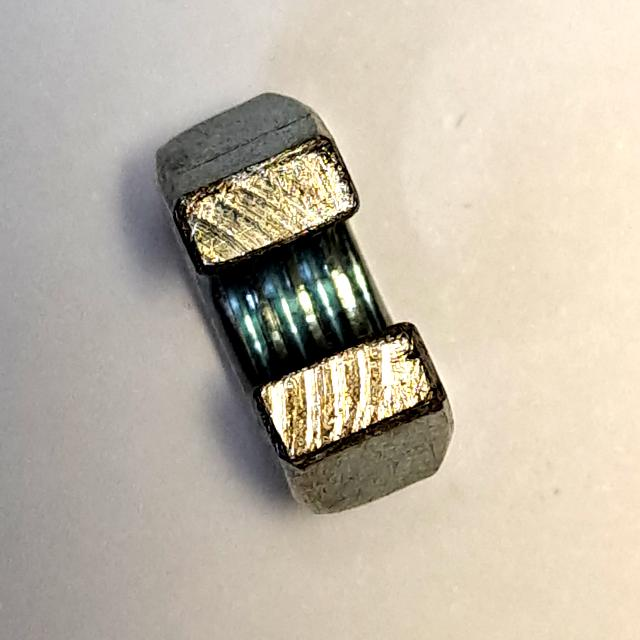Side-Fracture: (143, 83, 464, 526)
